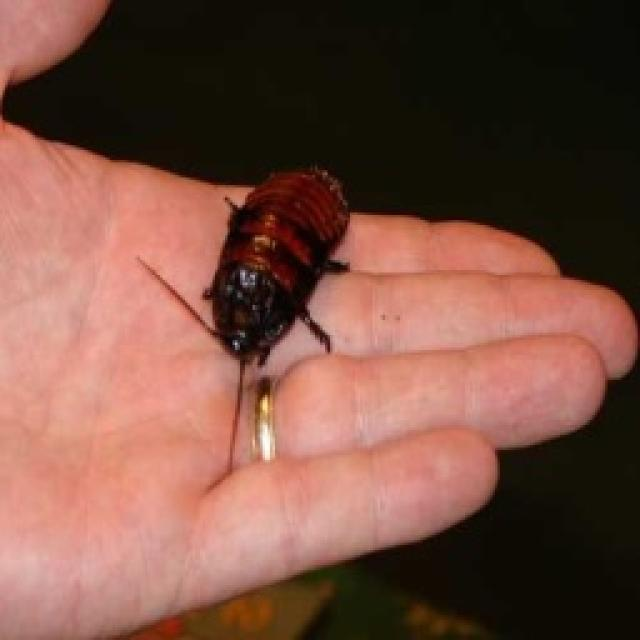cockroach: (182, 144, 385, 398)
